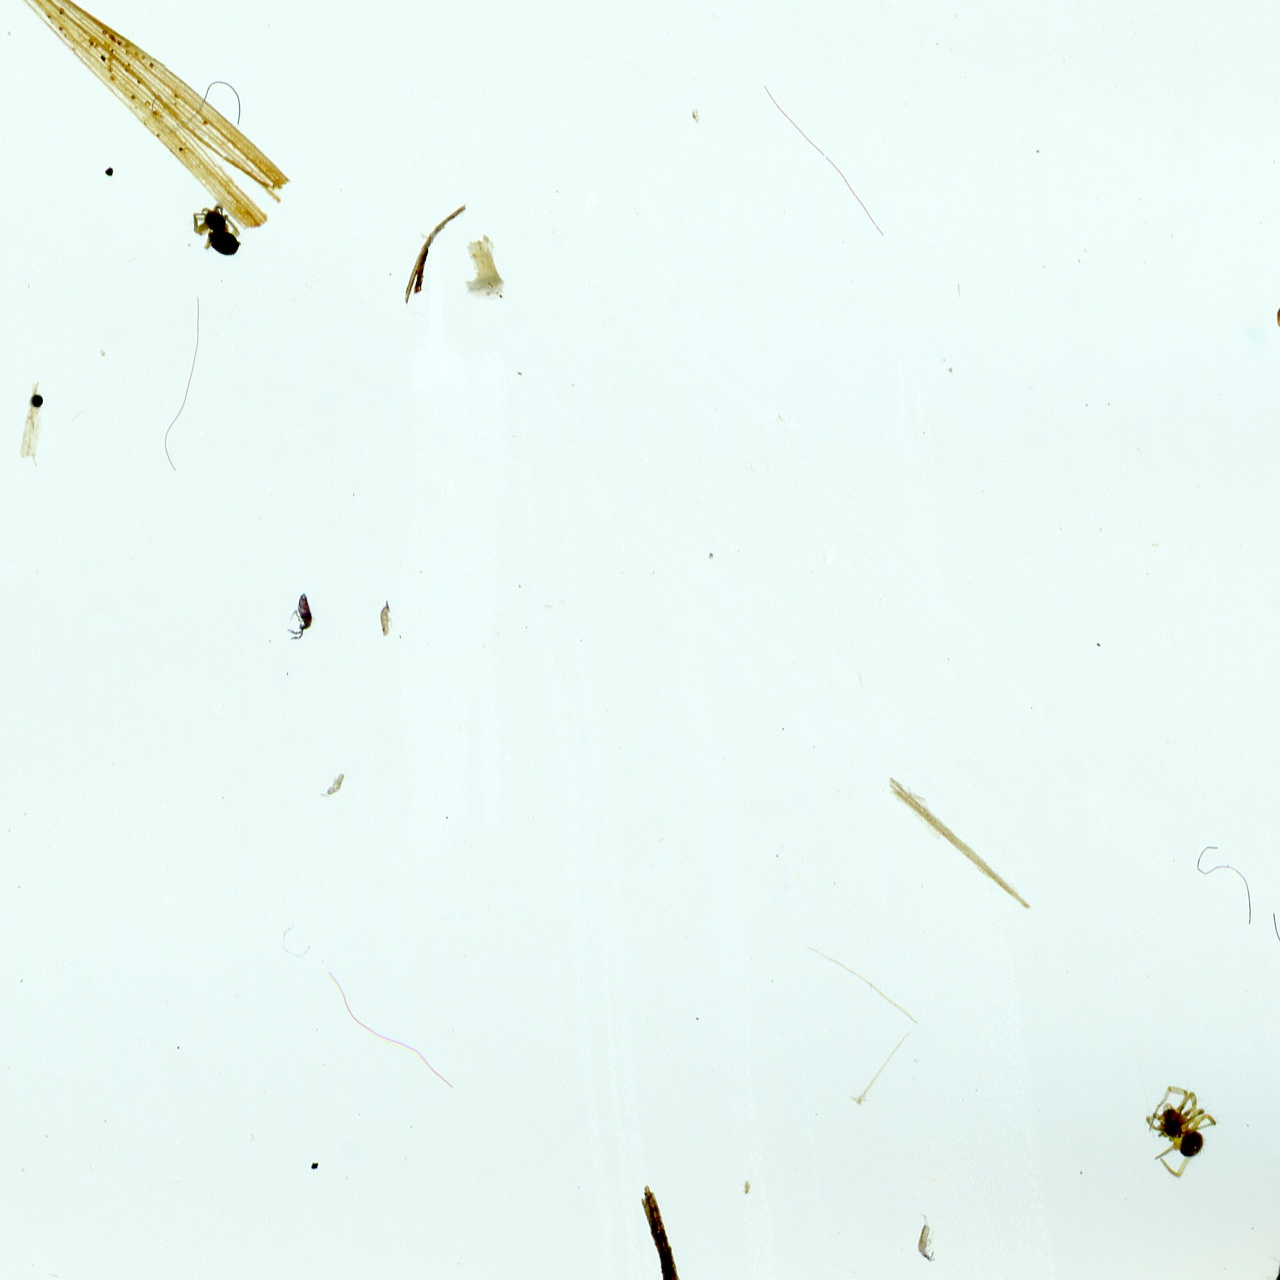arthropod: (1143, 1083, 1219, 1181), (186, 199, 251, 261), (283, 584, 318, 649), (914, 1206, 942, 1270), (315, 765, 352, 804), (375, 593, 397, 643)
